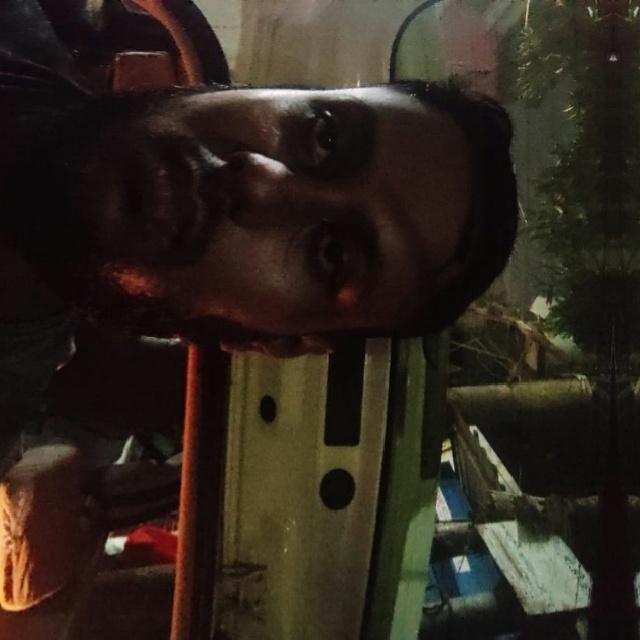Sad: (70, 67, 508, 365)
